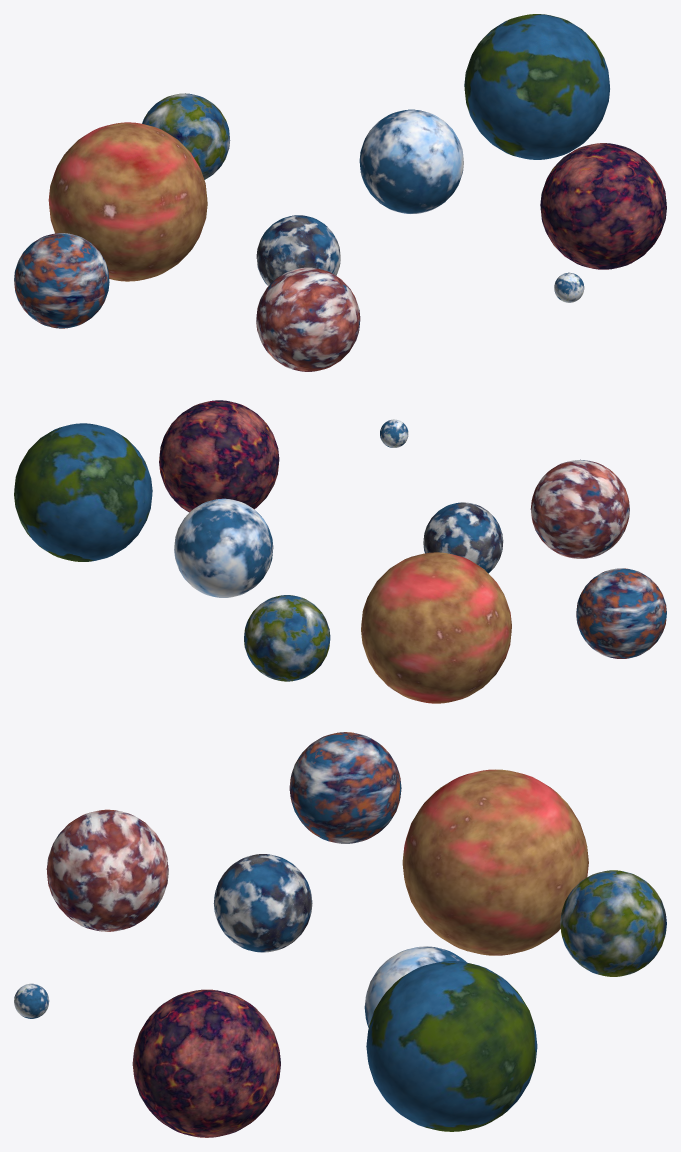
The model's file is sci_fi_planets.glb.
3 views of the same model, one above another, from view 1: azimuth 30°, elevation 25°; view 2: azimuth 150°, elevation 25°; view 3: azimuth 270°, elevation 25° (orthographic). The views are drawn at different scales.
Visible parts, largest first — view 1: Sphere.003, Sphere.008, Sphere.006, Sphere.005, Sphere.002, Sphere, Sphere.004, Sphere.001, Sphere.007; view 2: Sphere.003, Sphere.008, Sphere.006, Sphere.005, Sphere.002, Sphere, Sphere.004, Sphere.001, Sphere.007; view 3: Sphere.003, Sphere.008, Sphere.006, Sphere.002, Sphere, Sphere.004, Sphere.001, Sphere.005, Sphere.007.
Boxes of the visible parts, box(x1,y1,x2,y2) form: Sphere.003: box(48, 122, 207, 281); Sphere.008: box(464, 14, 609, 159); Sphere.006: box(540, 143, 666, 269); Sphere.005: box(359, 109, 463, 213); Sphere.002: box(256, 267, 360, 371); Sphere: box(14, 233, 109, 328); Sphere.004: box(142, 93, 230, 179); Sphere.001: box(256, 215, 340, 285); Sphere.007: box(554, 272, 584, 302); Sphere.003: box(361, 552, 511, 703); Sphere.008: box(14, 423, 152, 561); Sphere.006: box(159, 400, 279, 512); Sphere.005: box(174, 498, 273, 597); Sphere.002: box(530, 459, 629, 558); Sphere: box(576, 568, 666, 658); Sphere.004: box(244, 595, 330, 681); Sphere.001: box(423, 502, 503, 573); Sphere.007: box(380, 419, 408, 447); Sphere.003: box(402, 769, 588, 955); Sphere.008: box(366, 961, 537, 1131); Sphere.006: box(132, 989, 280, 1137); Sphere.002: box(46, 809, 168, 931); Sphere: box(289, 732, 401, 843); Sphere.004: box(560, 870, 666, 976); Sphere.001: box(213, 854, 312, 952); Sphere.005: box(364, 946, 466, 1027); Sphere.007: box(14, 983, 49, 1018).
Size of the model in its own units: 10.13 by 2.66 by 7.82.
9 materials, 9 textured.
